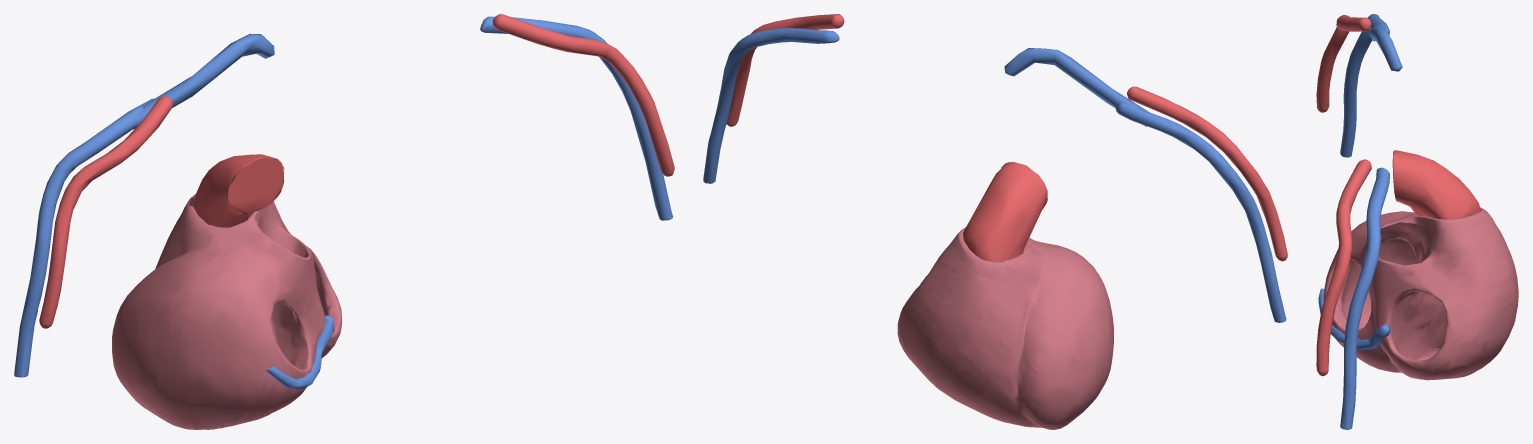
Rendered from additional_circulatory_lod2.glb.
3 renders of one model, left to right at view 1: azimuth 30°, elevation 25°; view 2: azimuth 150°, elevation 25°; view 3: azimuth 270°, elevation 25°, orthographic. The views are drawn at different scales.
Parts seen in each view (by area): view 1: FJ2428, FJ2966, FJ2217, FJ2216, FJ2268, FJ2269, FJ3486, FJ2655; view 2: FJ2428, FJ2966, FJ2217, FJ2216, FJ2269, FJ3486, FJ2268; view 3: FJ2428, FJ2966, FJ2269, FJ2268, FJ2217, FJ2216, FJ3486, FJ2655.
Part boxes in pixels (left/top/right/bottom): FJ2428: left=112, top=194, right=342, bottom=429; FJ2966: left=193, top=154, right=284, bottom=227; FJ2217: left=14, top=98, right=154, bottom=377; FJ2216: left=39, top=96, right=173, bottom=328; FJ2268: left=493, top=14, right=674, bottom=176; FJ2269: left=480, top=16, right=673, bottom=220; FJ3486: left=133, top=33, right=274, bottom=129; FJ2655: left=265, top=315, right=334, bottom=390; FJ2428: left=897, top=227, right=1113, bottom=429; FJ2966: left=963, top=162, right=1047, bottom=261; FJ2217: left=1115, top=103, right=1286, bottom=322; FJ2216: left=1127, top=86, right=1287, bottom=261; FJ2269: left=703, top=28, right=839, bottom=183; FJ3486: left=1004, top=48, right=1149, bottom=126; FJ2268: left=726, top=14, right=844, bottom=126; FJ2428: left=1323, top=207, right=1518, bottom=380; FJ2966: left=1392, top=150, right=1480, bottom=219; FJ2269: left=1340, top=167, right=1389, bottom=429; FJ2268: left=1316, top=159, right=1371, bottom=376; FJ2217: left=1340, top=14, right=1389, bottom=157; FJ2216: left=1316, top=15, right=1371, bottom=112; FJ3486: left=1369, top=24, right=1402, bottom=71; FJ2655: left=1318, top=288, right=1390, bottom=349.
Bounding box in the file's own units: 31.43 × 17.91 × 9.65.
